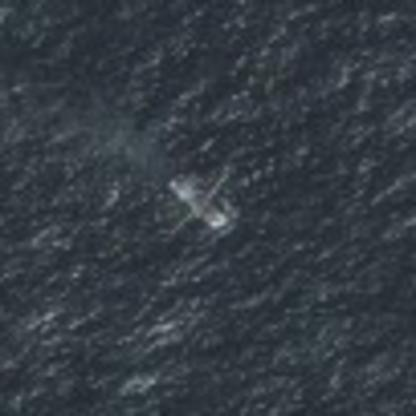ship: (148, 159, 249, 244)
